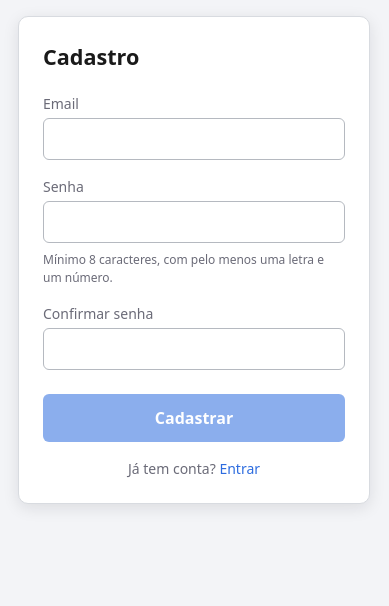
Test: RegisterView › shows server validation errors inline by field on 422
In the field with test id "email": (194, 139) [43,118,345,160], type "alice@example.com"
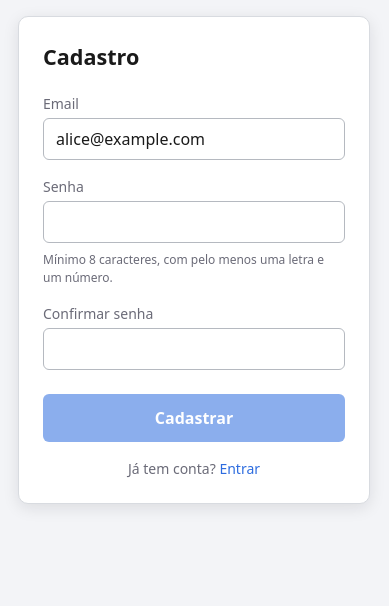
In the password field with test id "password": (194, 222) [43,201,345,243], type "Password123"
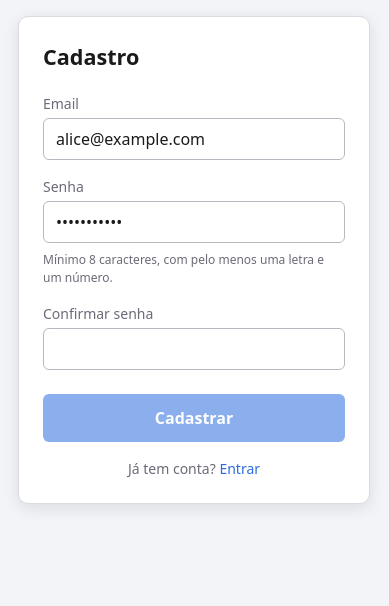
In the password field with test id "password-confirmation": (194, 349) [43,328,345,370], type "Password123"
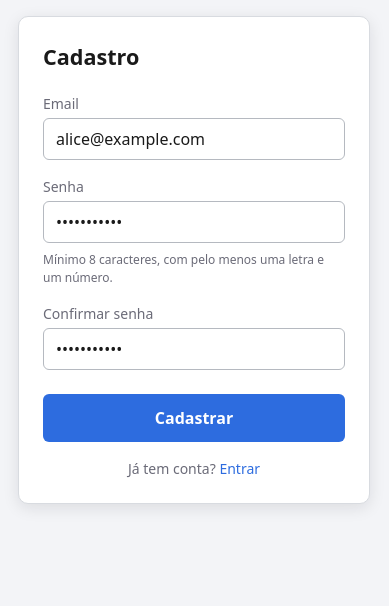
Submit the form, box [43,93,345,479]
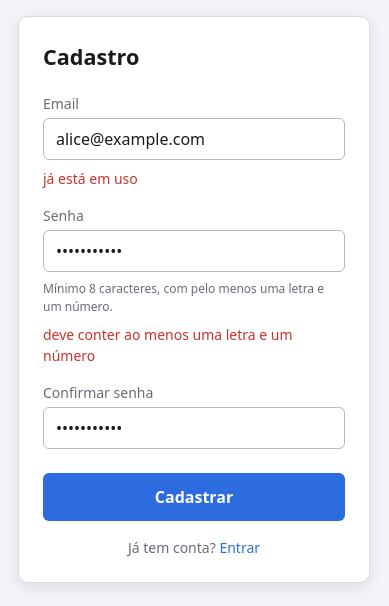
Now the text with test id "email-error" reads "já está em uso", box [43,169,138,188]
Now the text with test id "password-error" reads "deve conter ao menos uma letra e um número", box [43,325,293,365]
